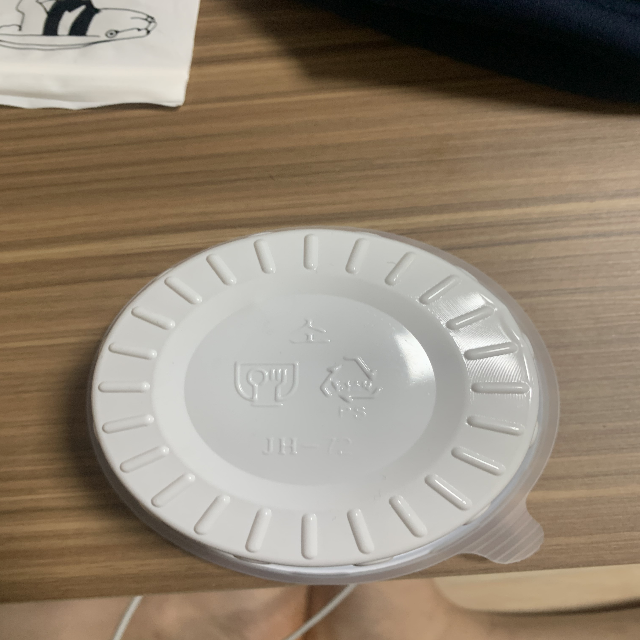ps: (318, 353, 383, 420)
